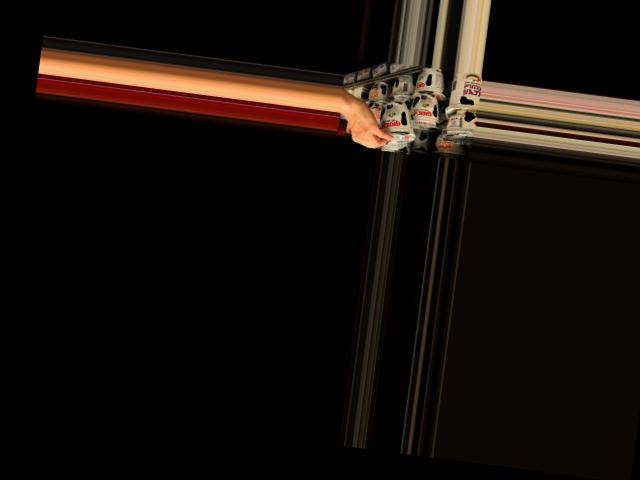cotage: (379, 101, 419, 142)
